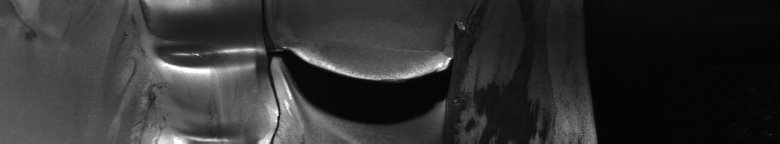ke: (132, 0, 419, 144)
